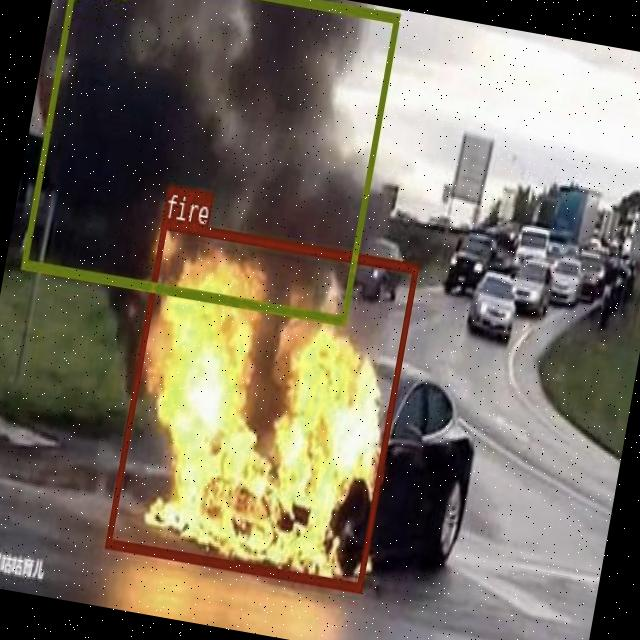fire: (104, 218, 418, 590)
smoke: (19, 0, 399, 324)
